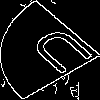U: (25, 25, 100, 84)
